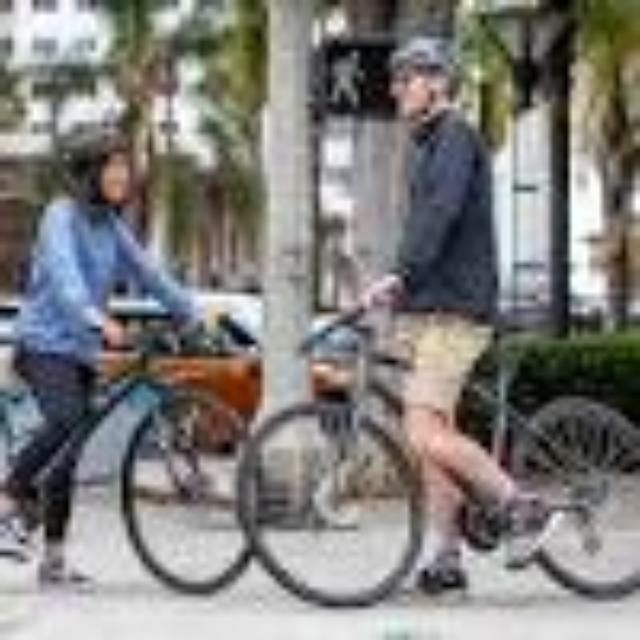obstacle: (278, 314, 640, 616)
